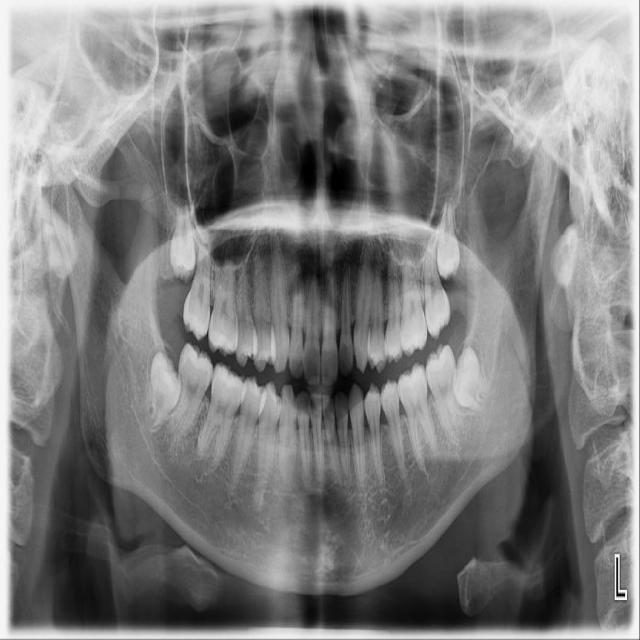impacted tooth: (452, 345, 496, 408), (145, 355, 180, 426), (168, 197, 194, 277), (436, 202, 460, 279)
